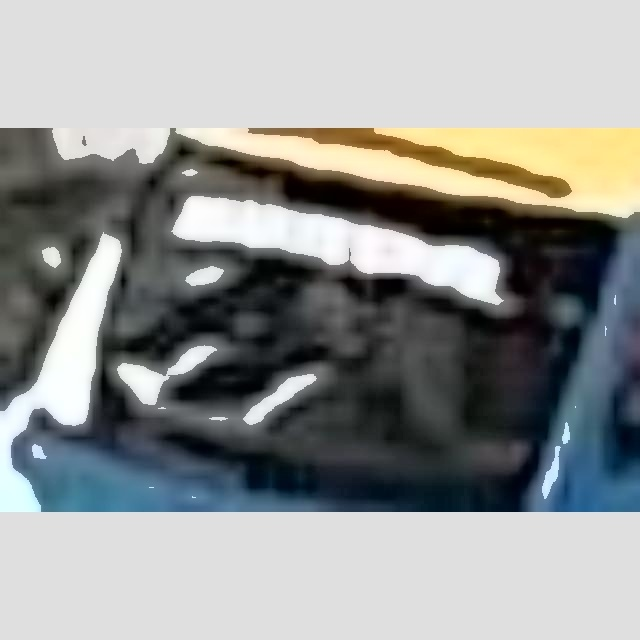tidak-pakai: (276, 256, 453, 414)
